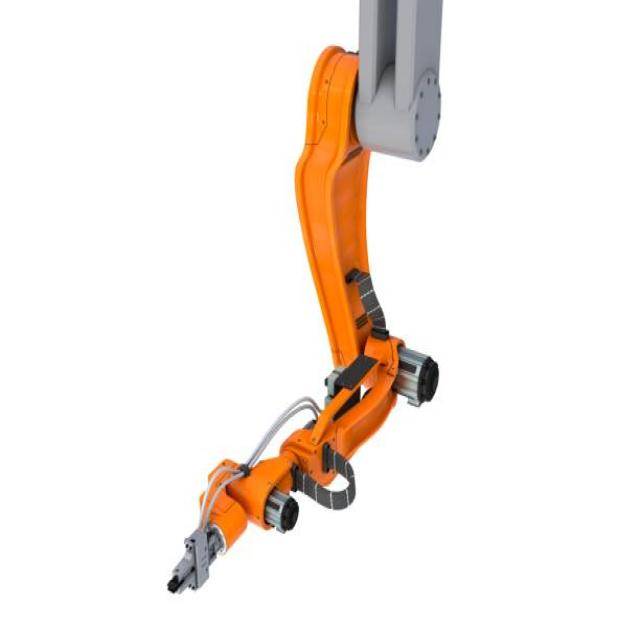Robotic-arm: (162, 0, 452, 597)
